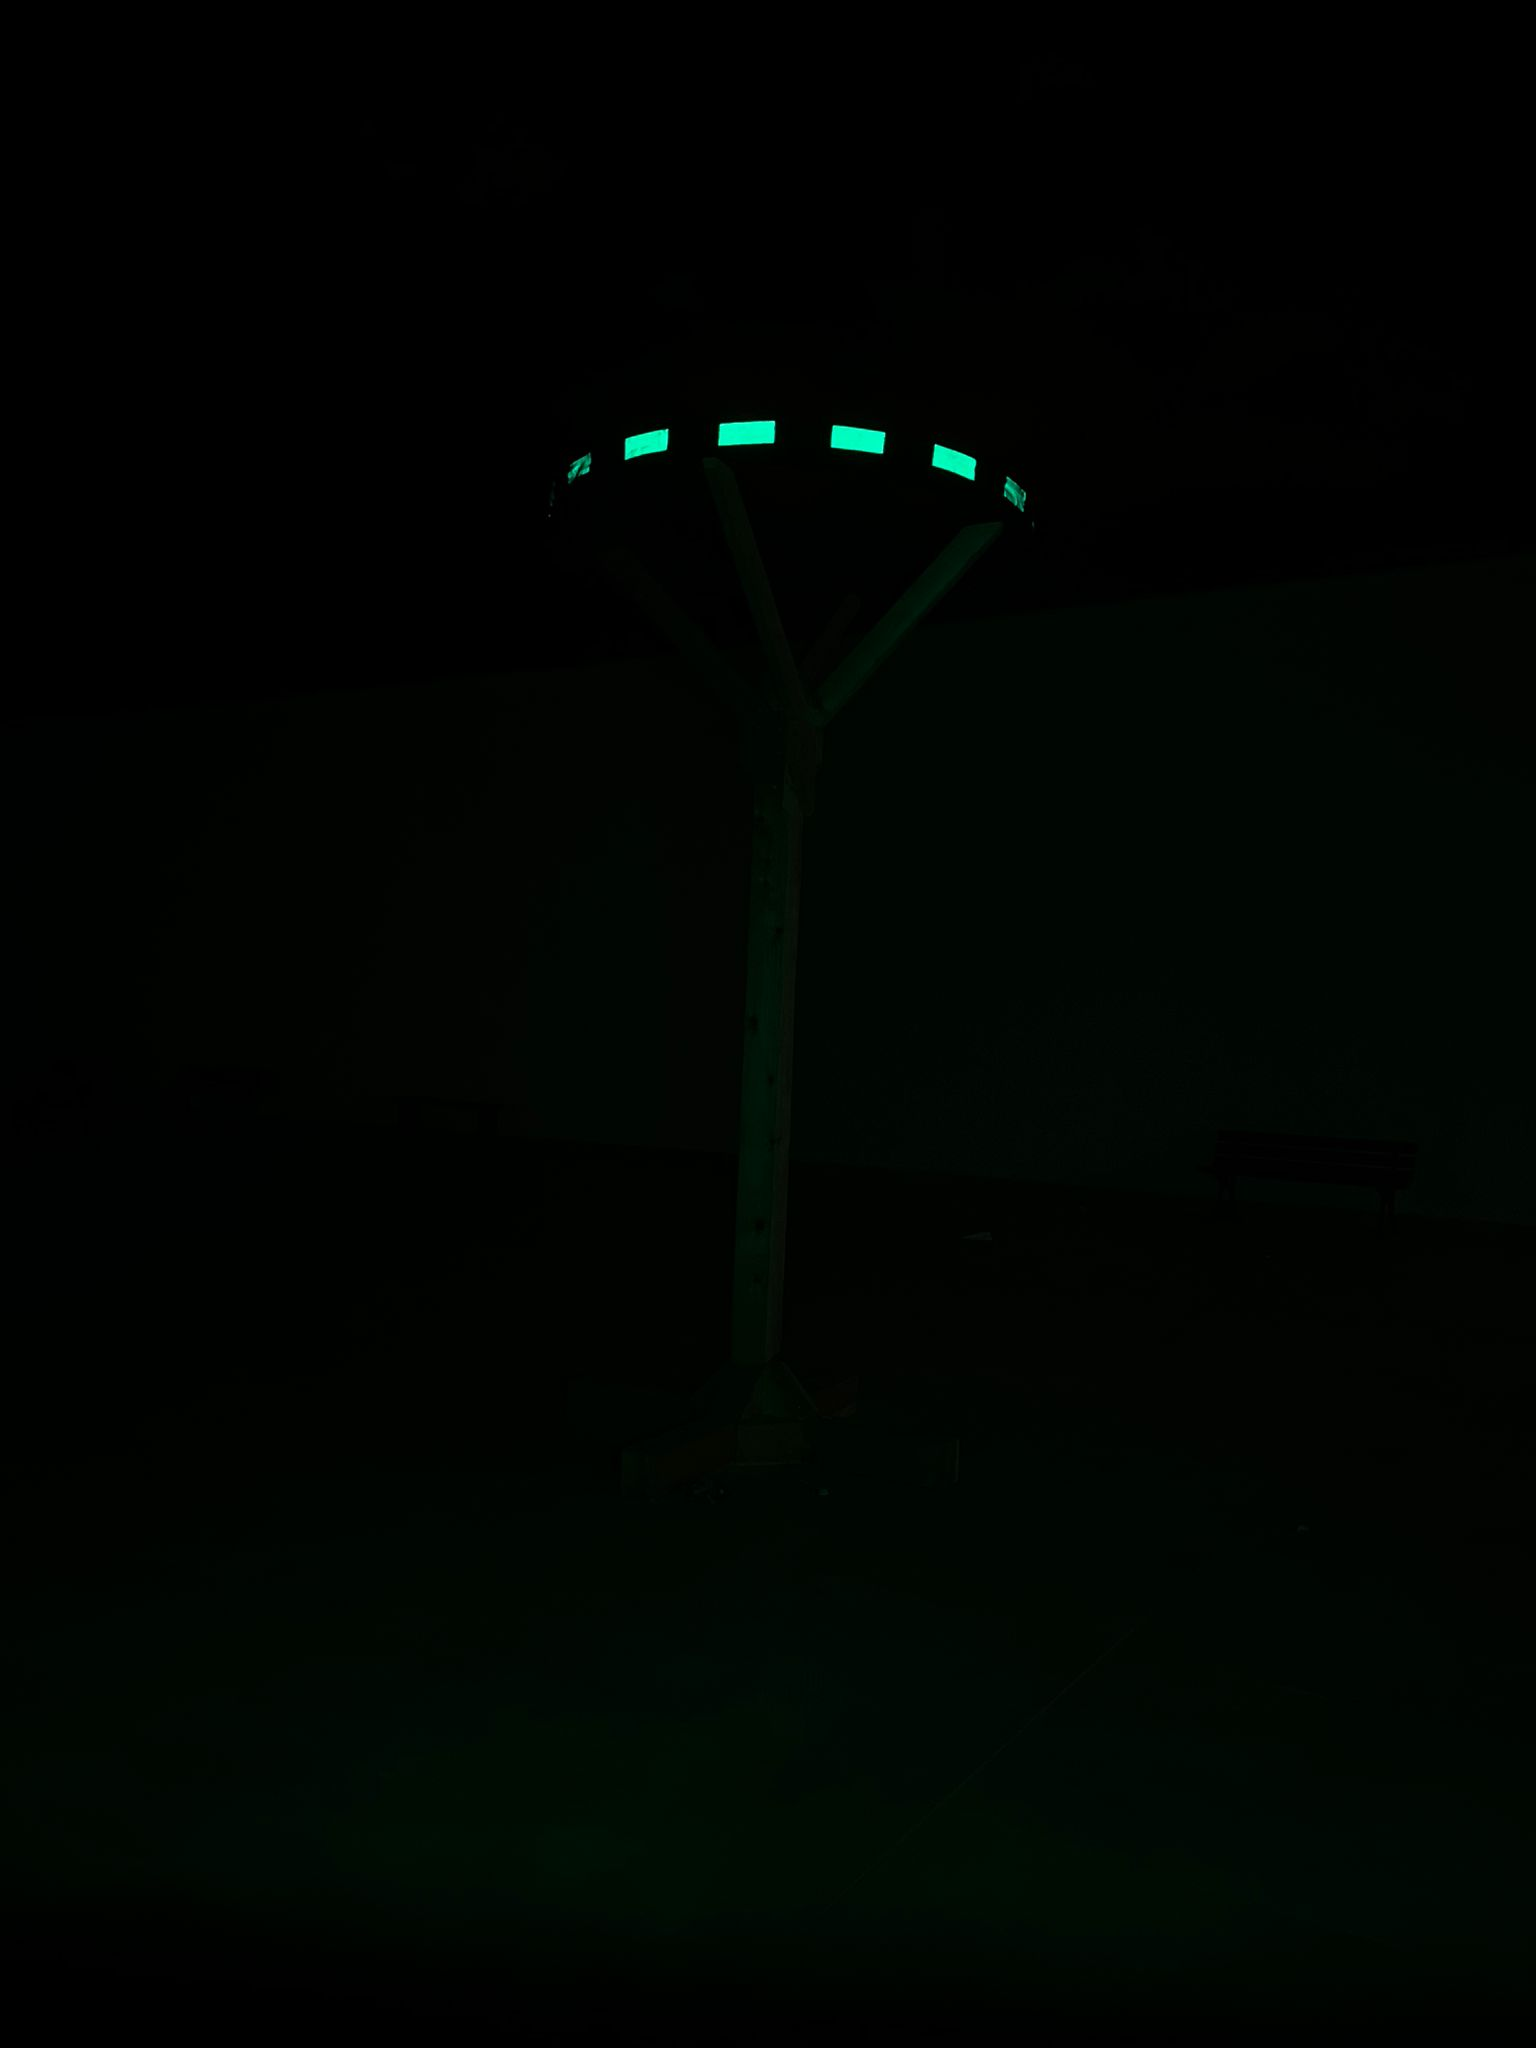hoop: (557, 403, 1031, 519)
